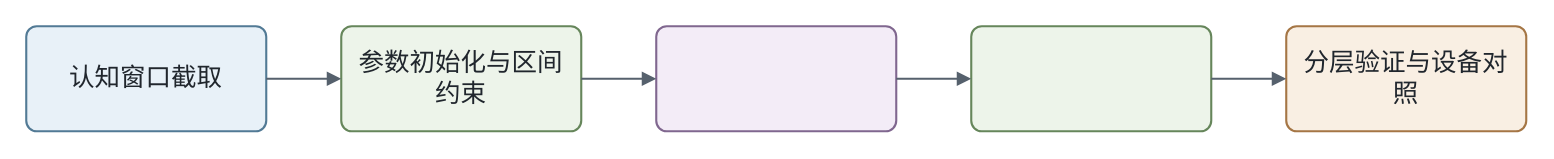
The diagram is 1554 pixels wide and 159 high, and some of its shapes have lost their labels. The shapes that lost their labels are listed below. From the top down, each one's centre as x and y in pixels, then its label:
pixel 775 78: 加权残差与正则化
pixel 1090 78: 扰动扫描与可辨识性
